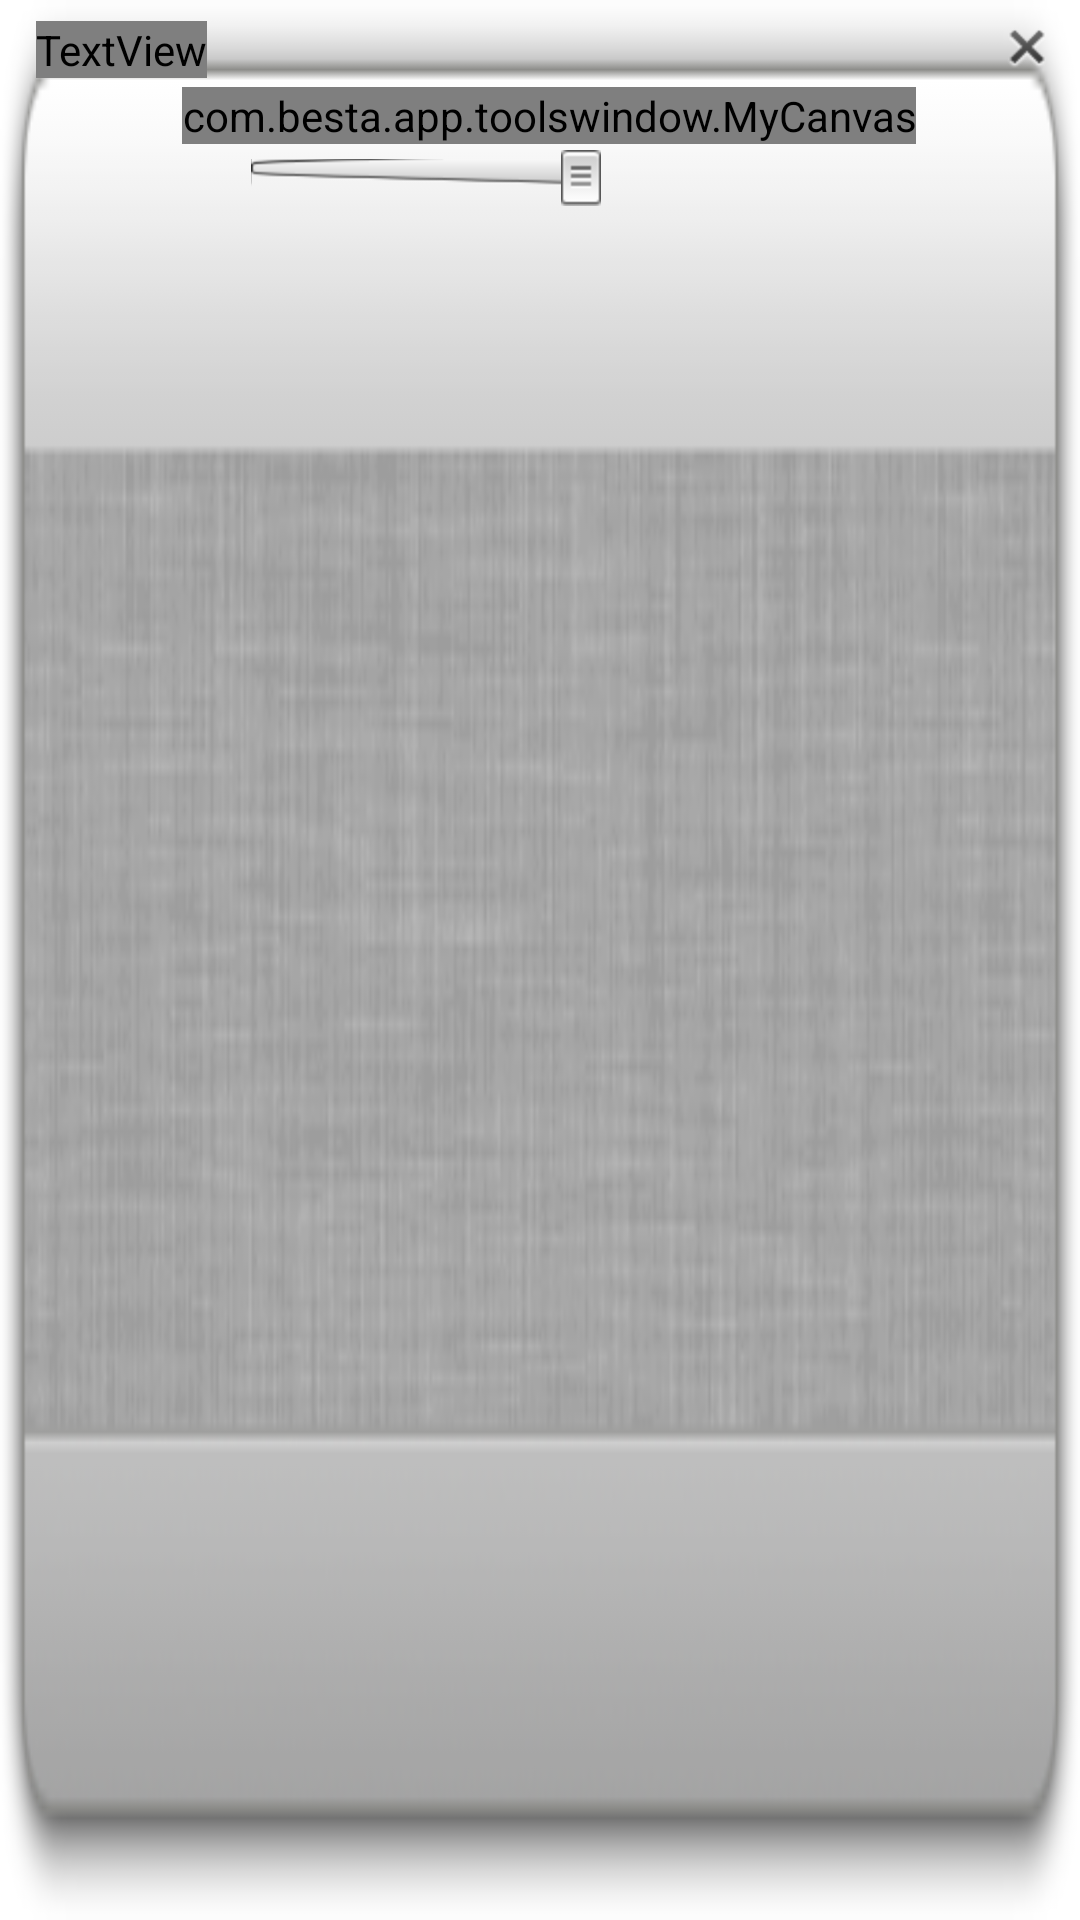

Point at icon controls on the screen. Image size 1080×1920, points as (x,y).
close: (1025,53)
